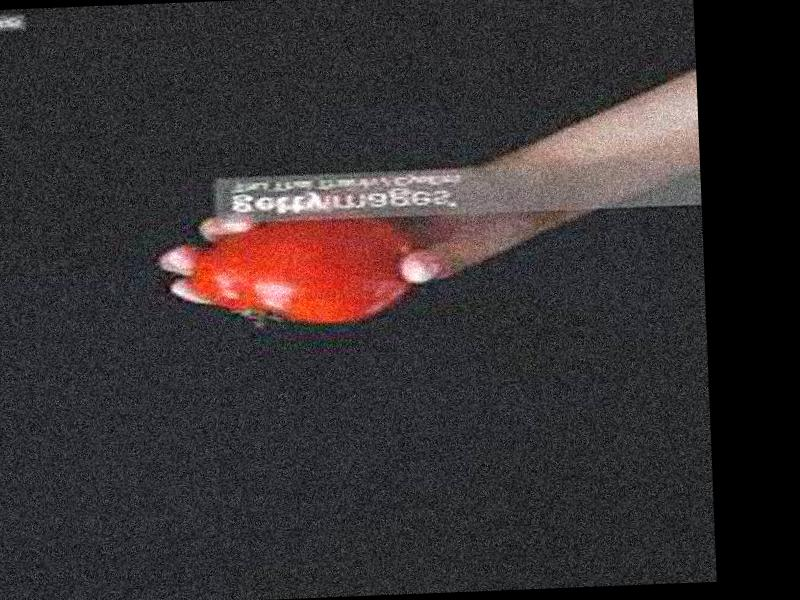Tomato: (182, 211, 409, 329)
